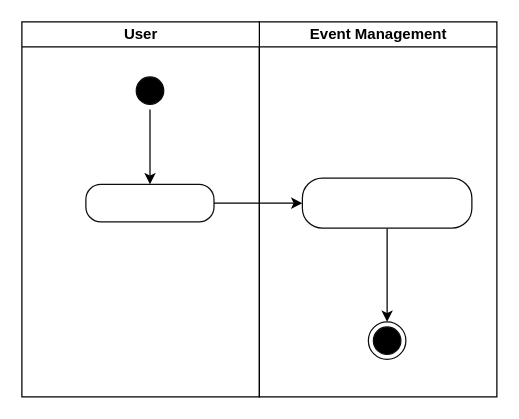
The diagram is 519 pixels wide and 419 high, and some of its shapes have lost their labels. Here are the shapes that lost their labels. From the top down, the centre of each, then its label:
At (149,202): "Clicks View Calendar".
At (386,202): "Displays Calendar".
